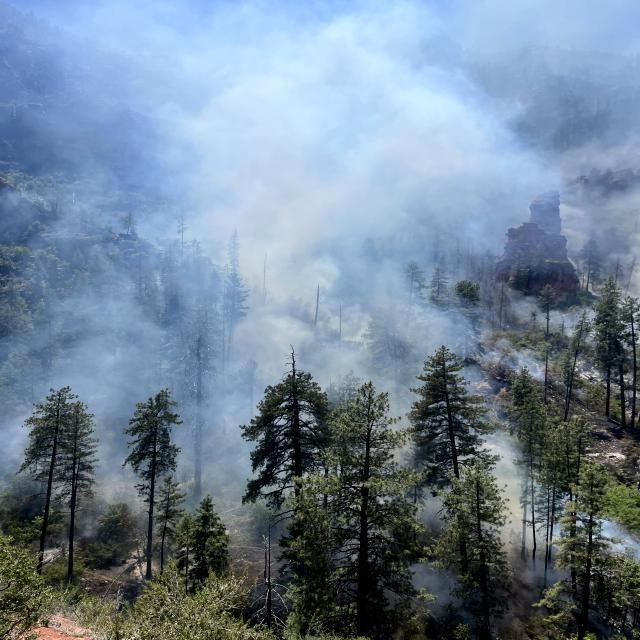Smoke: (0, 0, 621, 413)
